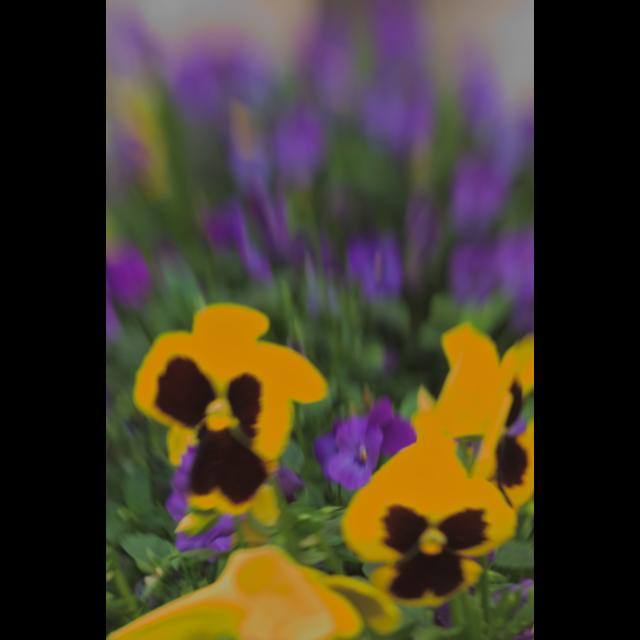Flower: (106, 7, 534, 314), (130, 304, 326, 552), (341, 436, 519, 608), (106, 548, 408, 640), (412, 322, 534, 504), (315, 392, 419, 492)
